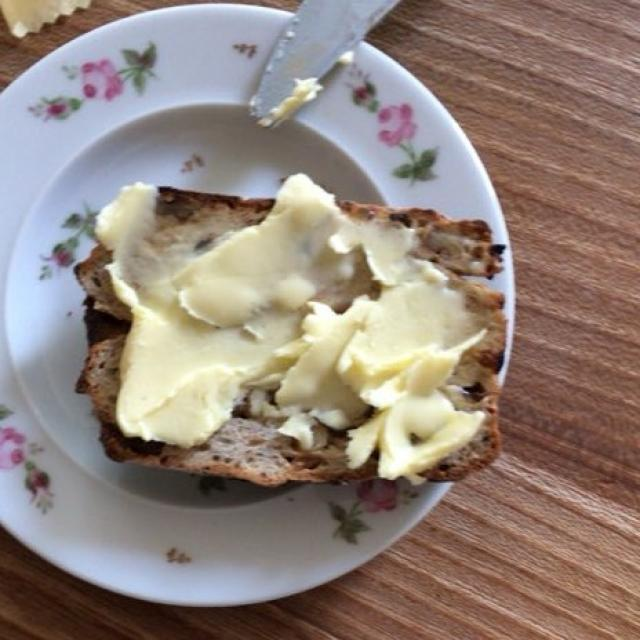bread: (85, 183, 506, 482)
butter: (100, 173, 494, 467)
